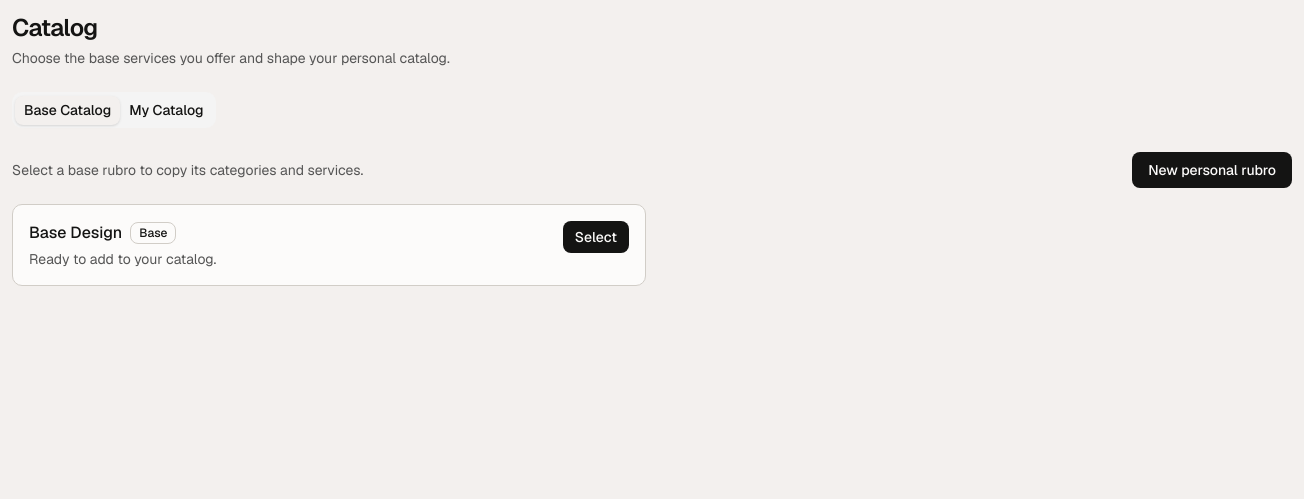
Test case: CatalogoPage — tree rendering and badges › renders the full nested rubro → categoria → service hierarchy
The image size is (1304, 499).
Step 1. Click the tab "My Catalog" → [166, 110], box [120, 96, 212, 124]
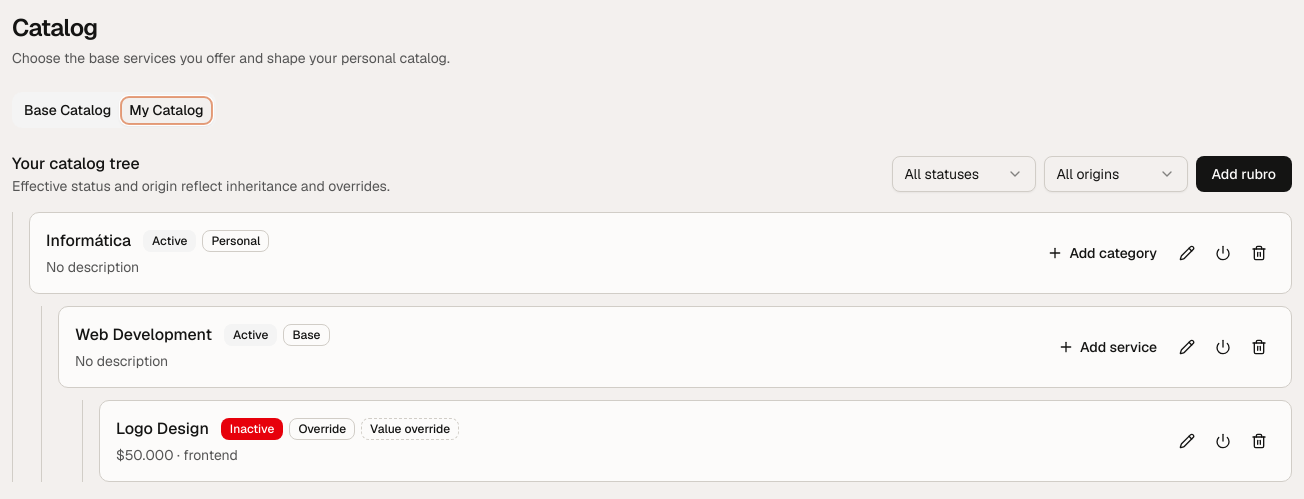
Expected: the heading "Informática" is shown, [46, 229, 131, 253]
Expected: the heading "Web Development" is shown, [75, 323, 212, 347]
Expected: the heading "Logo Design" is shown, [116, 417, 209, 441]
